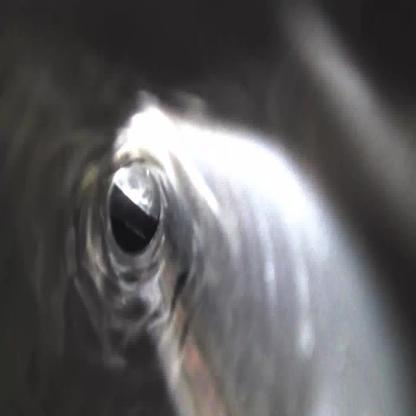Crack: (75, 110, 206, 356)
